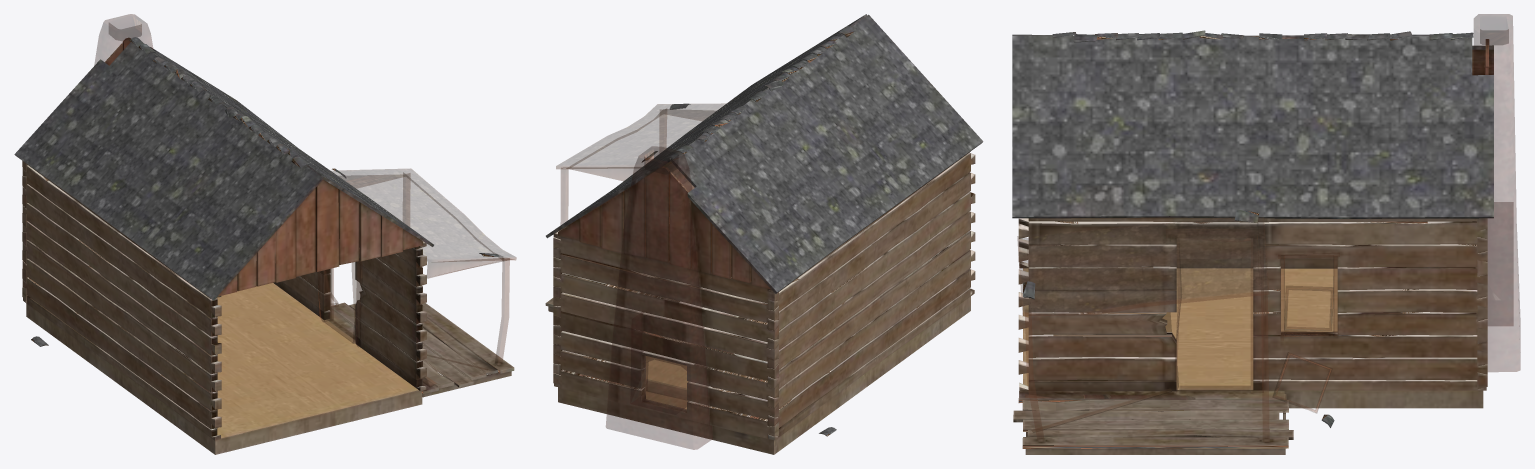
The model's file is ruined-cabin.lod0.glb.
3 renders of one model, left to right at view 1: azimuth 30°, elevation 25°; view 2: azimuth 150°, elevation 25°; view 3: azimuth 270°, elevation 25°, orthographic. The views are drawn at different scales.
Visible parts, largest first — view 1: Foundation.003_2.001_0, WallShortRight.004_1.001_0, OutRoof.003_3.001_0; view 2: WallShortRight.004_1.001_0, Foundation.003_2.001_0, OutRoof.003_3.001_0; view 3: Foundation.003_2.001_0, WallShortRight.004_1.001_0, OutRoof.003_3.001_0.
Boxes of the visible parts, <box> form: Foundation.003_2.001_0: <box>14,37,514,454</box>; WallShortRight.004_1.001_0: <box>22,38,426,440</box>; OutRoof.003_3.001_0: <box>94,14,516,387</box>; WallShortRight.004_1.001_0: <box>553,151,975,440</box>; Foundation.003_2.001_0: <box>545,14,983,454</box>; OutRoof.003_3.001_0: <box>556,103,725,449</box>; Foundation.003_2.001_0: <box>1012,30,1493,454</box>; WallShortRight.004_1.001_0: <box>1018,39,1489,391</box>; OutRoof.003_3.001_0: <box>1017,14,1520,441</box>.
Size of the model in its own units: 5.37 by 4.23 by 5.98.
Materials: 3 (3 with a texture image).
